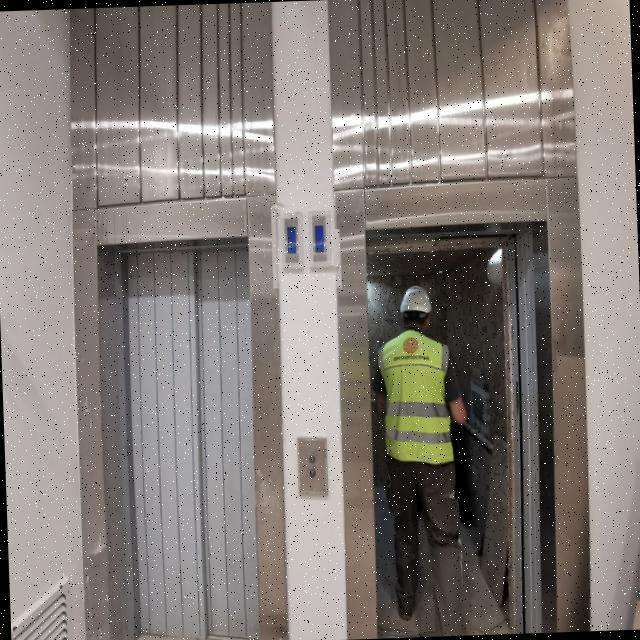Helmet: (399, 285, 433, 323)
Jacket: (381, 322, 451, 460)
